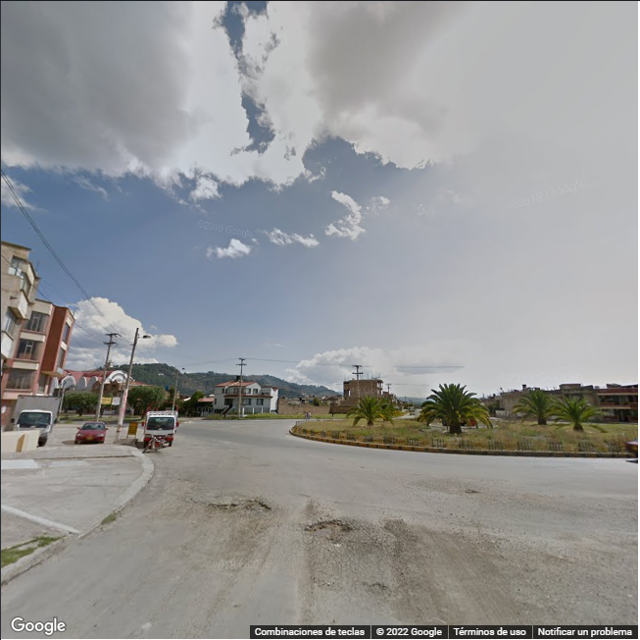D40: (306, 515, 349, 542), (236, 493, 269, 521)
